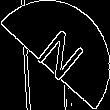N_SW: (25, 23, 85, 87)
